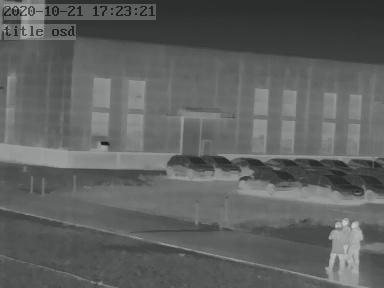person: (345, 218, 368, 269), (327, 221, 349, 274)
vehicle: (300, 173, 362, 203), (239, 169, 302, 190), (165, 153, 213, 179), (204, 153, 242, 176), (350, 174, 382, 200), (233, 155, 269, 171), (348, 155, 380, 170), (261, 156, 295, 169), (278, 155, 310, 168), (296, 156, 324, 169), (319, 156, 347, 169)
